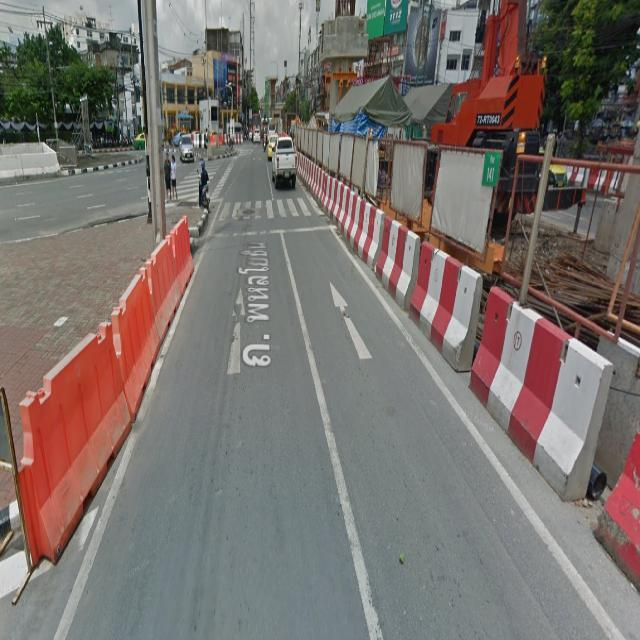fallen_object: (459, 279, 601, 497), (5, 343, 113, 563), (356, 200, 477, 364), (37, 269, 179, 403), (293, 130, 378, 260), (129, 210, 211, 315)
